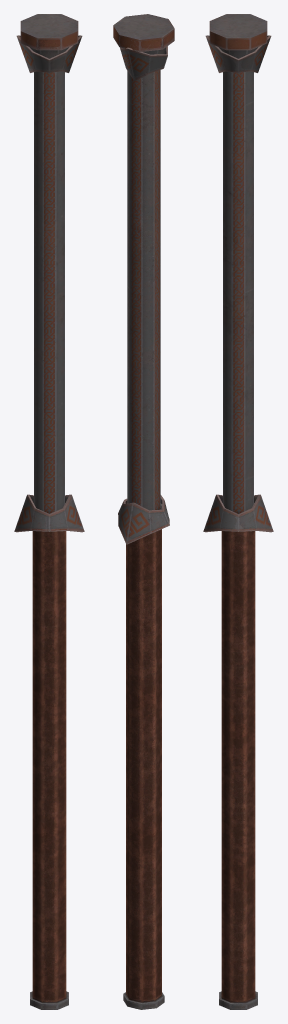
The model's file is sm_dwarf_dain_hammer_handle_a.fbx.
3 renders of one model, left to right at view 1: azimuth 90°, elevation 25°; view 2: azimuth 150°, elevation 25°; view 3: azimuth 270°, elevation 25°, orthographic.
Parts seen in each view (by area): view 1: sm_dwarf_dain_hammer_handle_a; view 2: sm_dwarf_dain_hammer_handle_a; view 3: sm_dwarf_dain_hammer_handle_a.
Part boxes in pixels (x1,y1,x2,y2): sm_dwarf_dain_hammer_handle_a: [14, 14, 84, 1009]; sm_dwarf_dain_hammer_handle_a: [113, 14, 174, 1009]; sm_dwarf_dain_hammer_handle_a: [203, 14, 273, 1009].
Size of the model in its own units: 0.0889 by 0.1047 by 1.6.
Materials: 1 (1 with a texture image).
